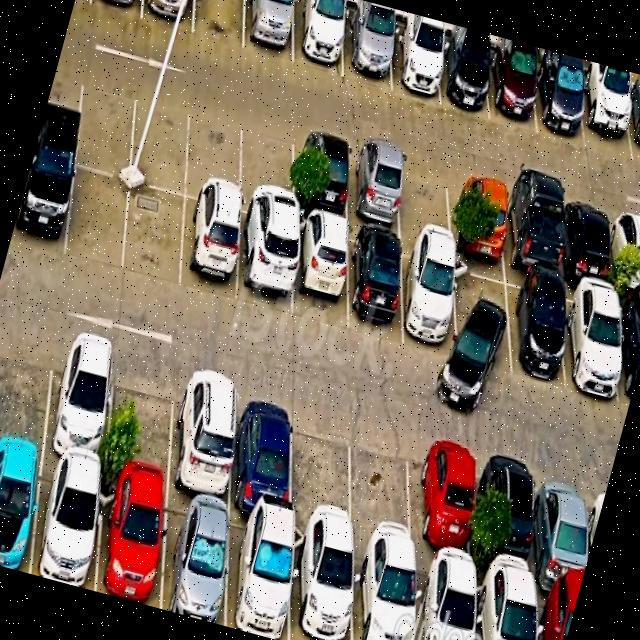empty: (105, 347, 176, 490), (353, 413, 415, 556), (291, 398, 352, 540), (0, 316, 55, 453), (129, 84, 193, 195), (65, 166, 130, 271), (453, 257, 511, 374), (74, 69, 136, 178), (123, 182, 185, 290), (239, 113, 294, 225), (185, 100, 241, 209), (399, 153, 451, 244), (192, 0, 244, 49)
occupied: (42, 329, 115, 472), (169, 364, 237, 507), (30, 458, 101, 591), (160, 492, 229, 626), (96, 476, 165, 608), (230, 381, 294, 520), (225, 510, 291, 640), (415, 427, 471, 572), (484, 444, 536, 586), (289, 526, 352, 640), (537, 458, 589, 596), (562, 280, 621, 400), (9, 150, 75, 257), (505, 270, 564, 383), (401, 241, 457, 359), (347, 227, 403, 341), (292, 214, 347, 330), (180, 198, 239, 302), (354, 545, 414, 640), (236, 214, 291, 317), (504, 181, 560, 277), (0, 448, 42, 573), (294, 128, 348, 221), (452, 168, 505, 261), (415, 558, 474, 640), (578, 72, 632, 161), (350, 141, 401, 233), (562, 194, 612, 285), (536, 57, 584, 147), (438, 36, 488, 119), (489, 45, 536, 133), (390, 23, 439, 104), (476, 573, 535, 640), (292, 0, 344, 76), (343, 11, 390, 88), (243, 0, 293, 63), (616, 292, 640, 407), (611, 206, 640, 291), (536, 586, 578, 640), (141, 0, 194, 32), (623, 82, 640, 163)
